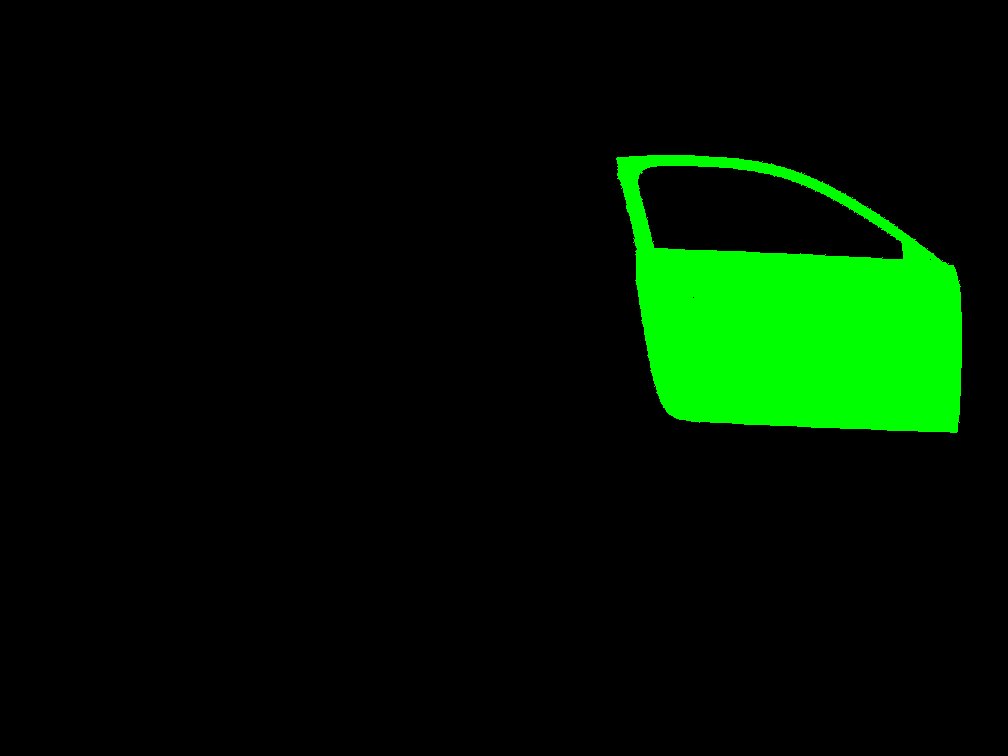car_door: (616, 155, 961, 432)
